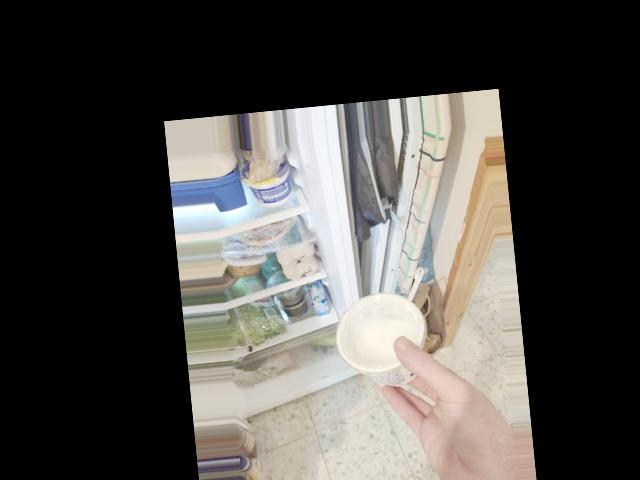cotage: (356, 296, 432, 387)
